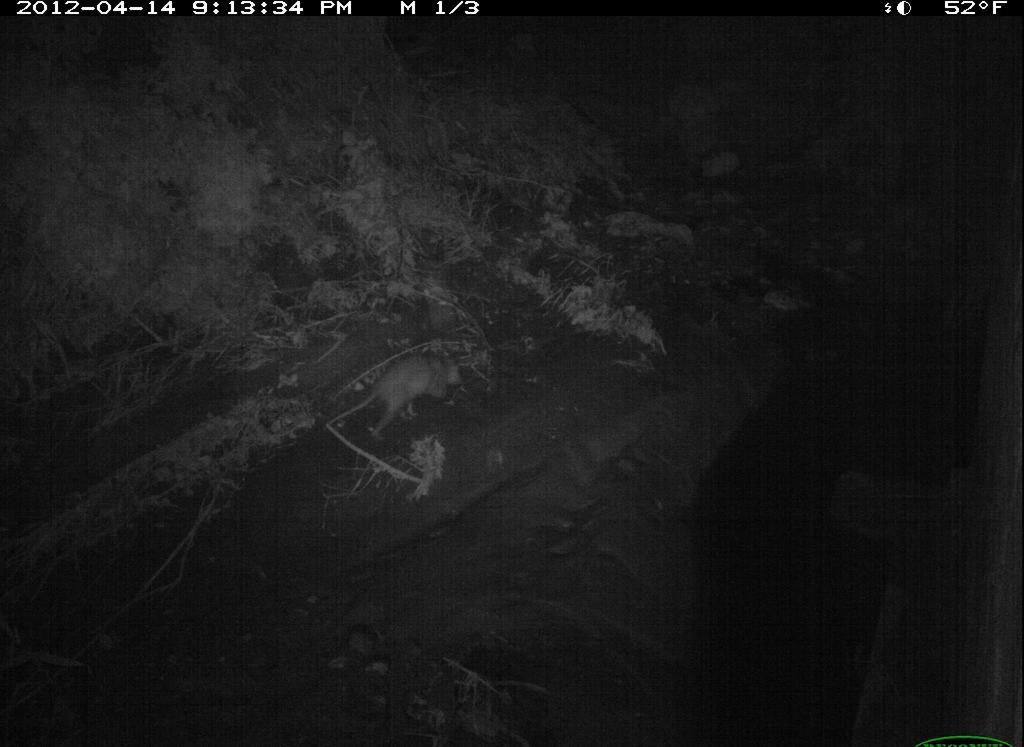opossum: (317, 336, 489, 457)
